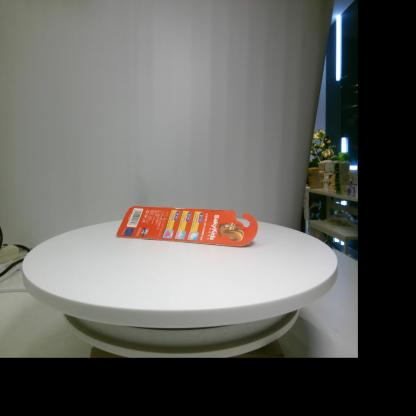Personal Hygiene: (116, 206, 258, 246)
